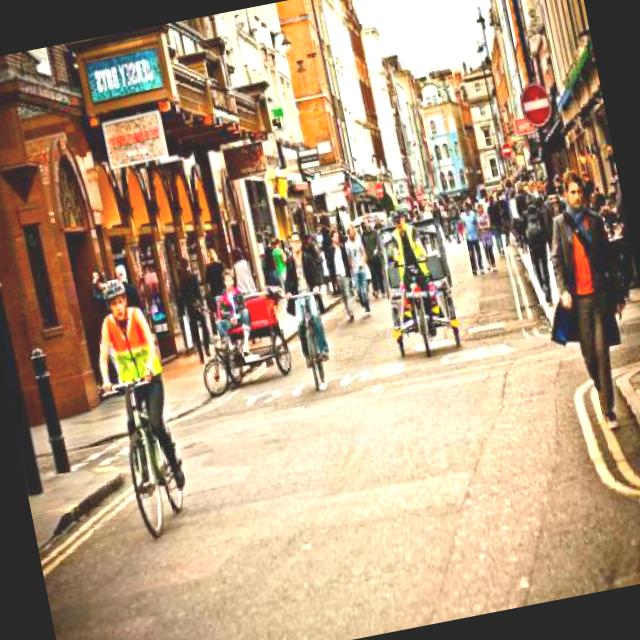Person: (522, 161, 640, 429), (83, 267, 193, 503), (272, 225, 338, 368), (386, 201, 448, 340), (514, 188, 564, 308), (208, 264, 258, 358), (322, 224, 363, 324), (343, 220, 381, 316), (357, 214, 391, 298), (458, 197, 489, 276), (475, 202, 502, 274), (506, 182, 530, 252), (486, 192, 510, 256), (448, 196, 464, 240)
